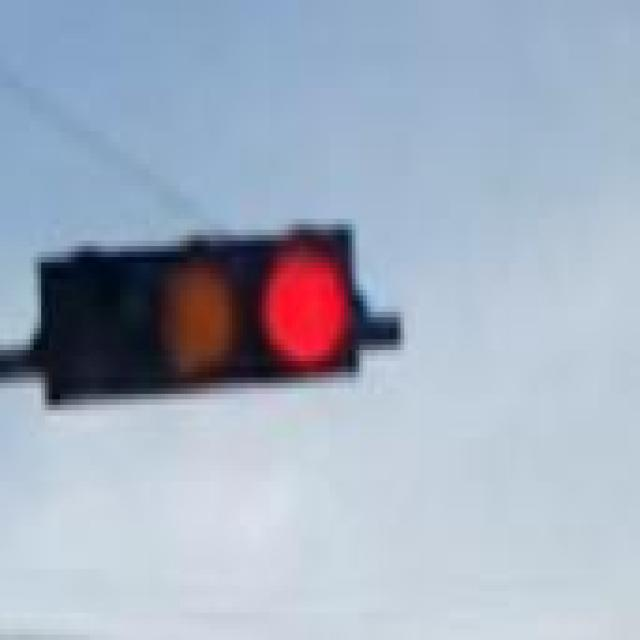yellow_light: (41, 230, 356, 405)
